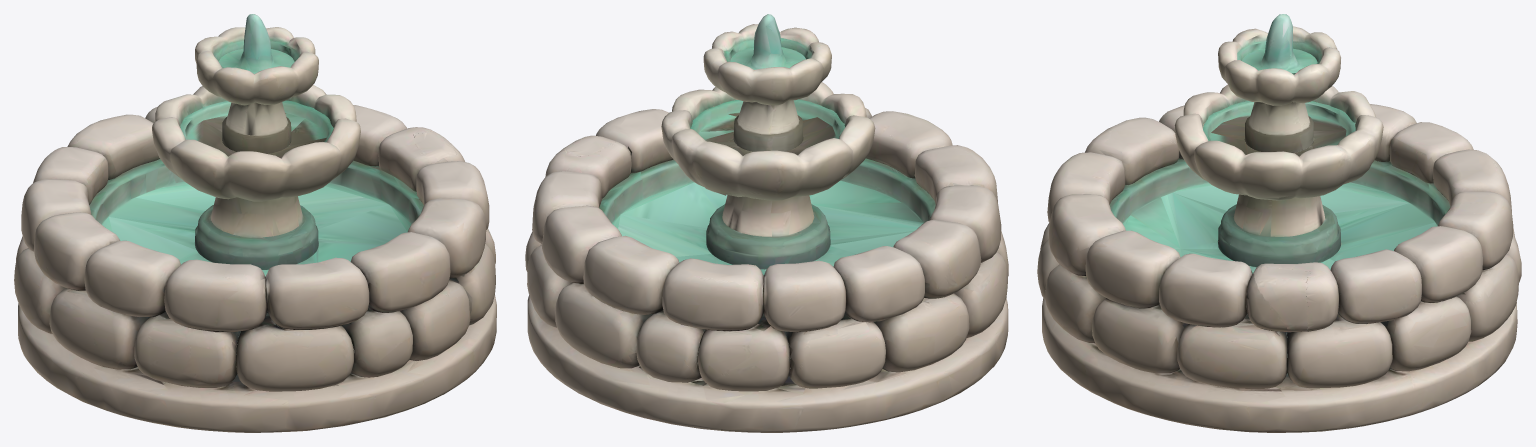
File: F09-wish-fountain.glb
3 views of the same model, side by side, from view 1: azimuth 30°, elevation 25°; view 2: azimuth 150°, elevation 25°; view 3: azimuth 270°, elevation 25° (orthographic).
Parts seen in each view (by area): view 1: F09-wish-fountain; view 2: F09-wish-fountain; view 3: F09-wish-fountain.
Part boxes in pixels (box(x1,y1,x2,y2)): F09-wish-fountain: box(14, 14, 496, 432); F09-wish-fountain: box(525, 14, 1008, 432); F09-wish-fountain: box(1037, 14, 1521, 432).
Size of the model in its own units: 3.03 by 2.2 by 3.04.
Materials: 1 (1 with a texture image).
